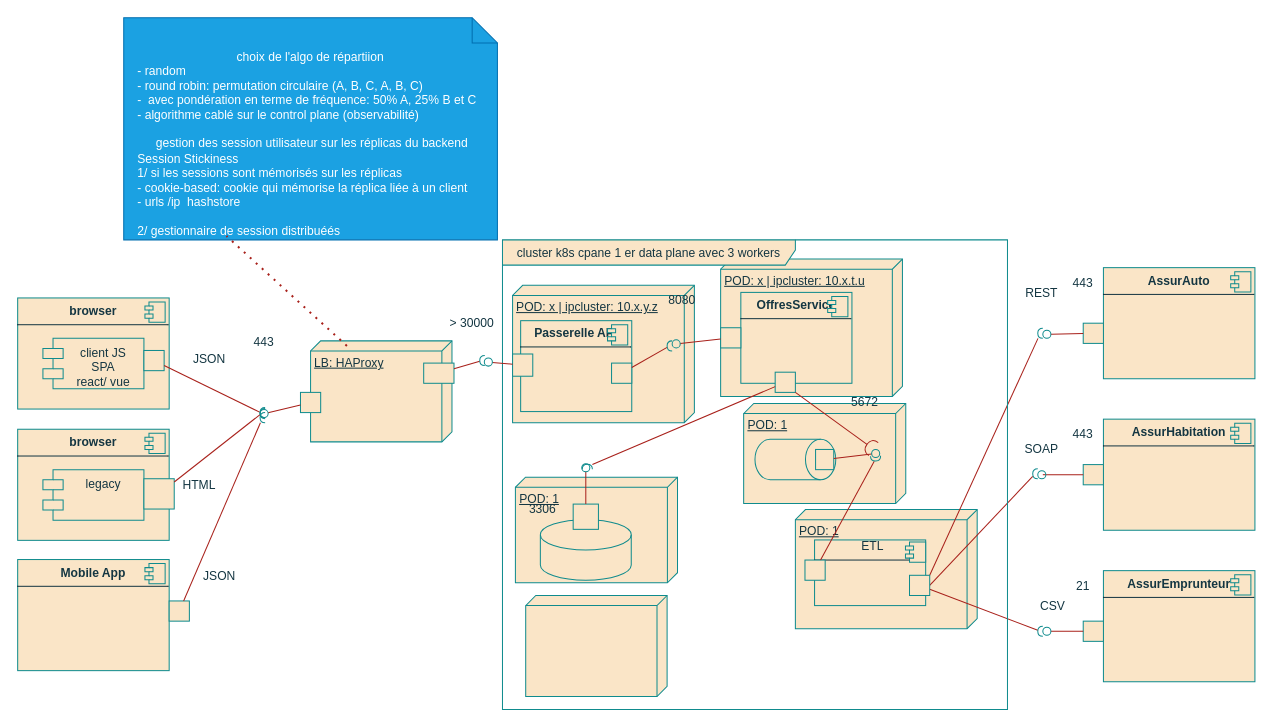
The diagram is 1273 pixels wide and 727 high, and some of its shapes have lost their labels. The centre of each missing label's shape, as x and y in pixels:
"ampq" belongs at [795,459].
"registre d'images ex: harbor" belongs at [596,645].
